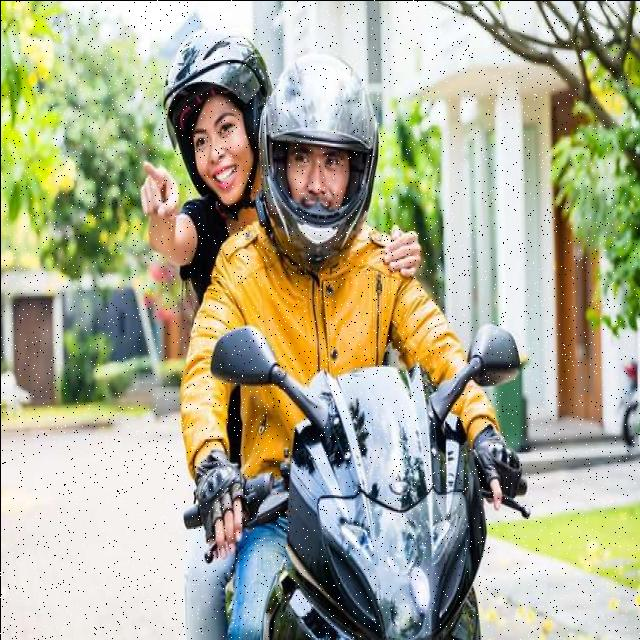Helmet: (257, 50, 379, 271), (162, 26, 272, 214)
